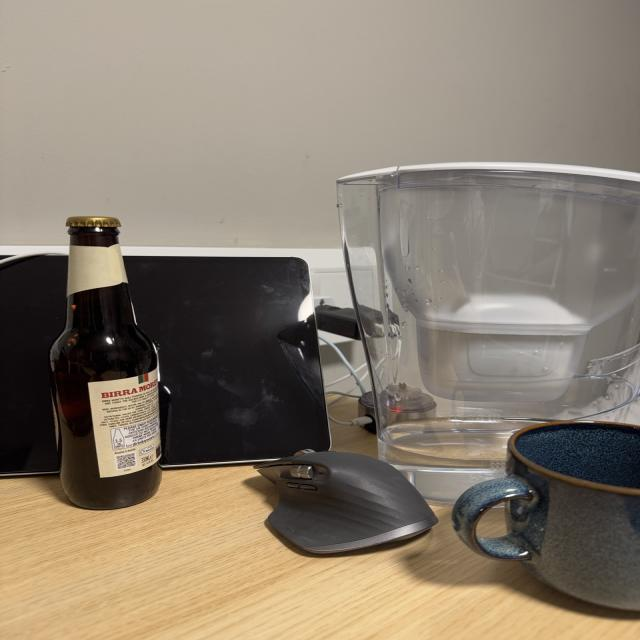beer: (47, 213, 165, 512)
